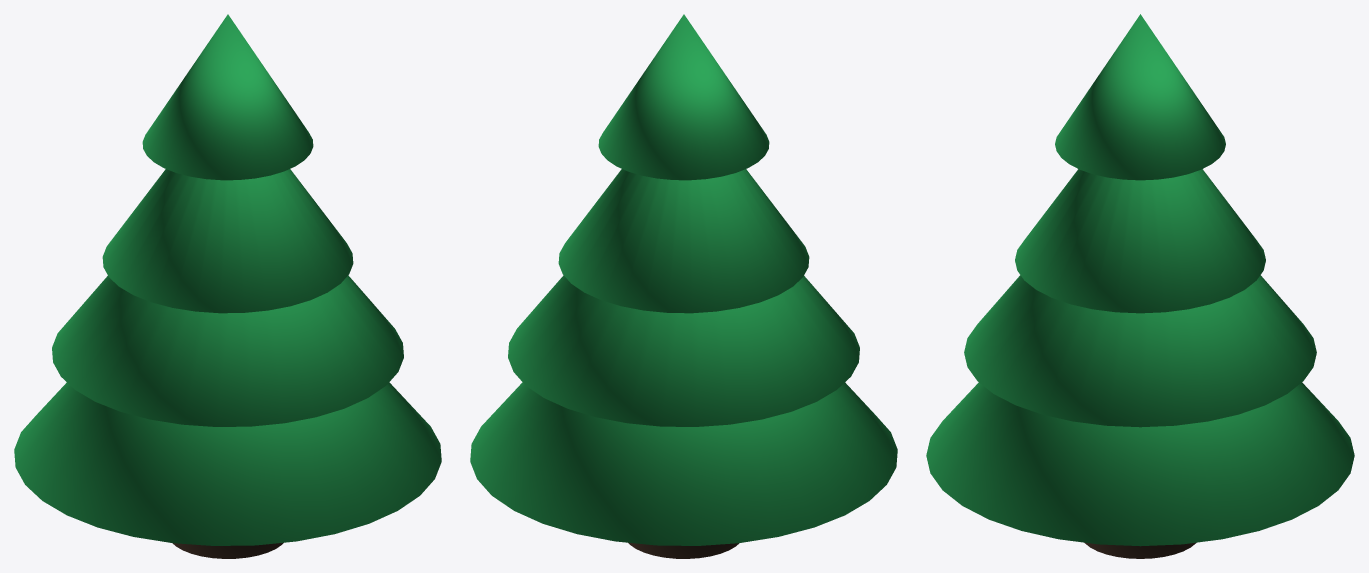
File: BigPineTree.fbx
3 views of the same model, side by side, from view 1: azimuth 30°, elevation 25°; view 2: azimuth 150°, elevation 25°; view 3: azimuth 270°, elevation 25° (orthographic).
Parts seen in each view (by area): view 1: BigPineTree; view 2: BigPineTree; view 3: BigPineTree.
Boxes of the visible parts, x1=… form: BigPineTree: x1=14, y1=14, x2=441, y2=558; BigPineTree: x1=470, y1=14, x2=897, y2=558; BigPineTree: x1=926, y1=14, x2=1354, y2=558.
Size of the model in its own units: 1065 by 1425 by 1065.
